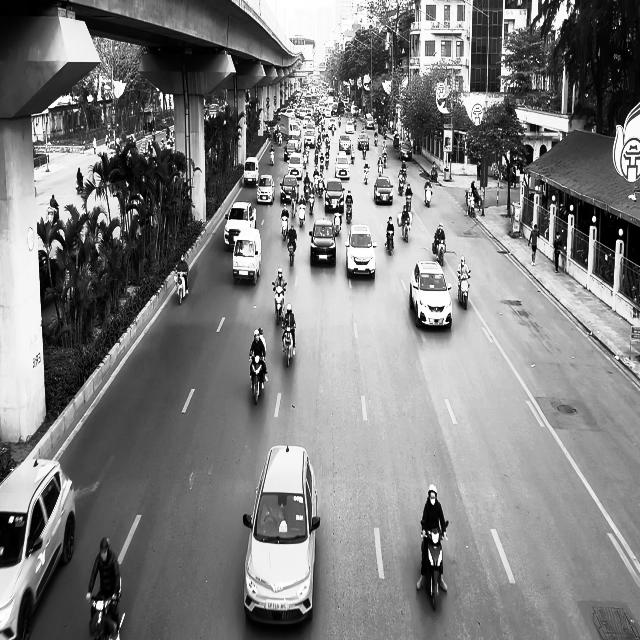car: (242, 444, 320, 626), (0, 457, 76, 639), (409, 259, 453, 329), (346, 224, 378, 279), (232, 228, 262, 286), (224, 201, 257, 251), (309, 219, 336, 267), (257, 174, 275, 204), (374, 176, 393, 204)
motorbike: (421, 520, 448, 610), (87, 592, 125, 640), (250, 354, 266, 405), (282, 322, 296, 368), (273, 282, 287, 325), (458, 271, 472, 310), (175, 272, 187, 305), (435, 237, 446, 266), (401, 216, 412, 242), (385, 230, 395, 255), (288, 238, 296, 266), (424, 185, 432, 208), (363, 164, 370, 184)
